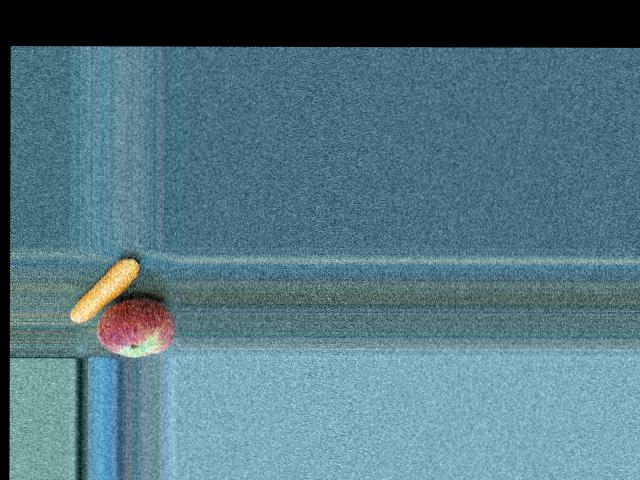carrot: (69, 255, 148, 326)
